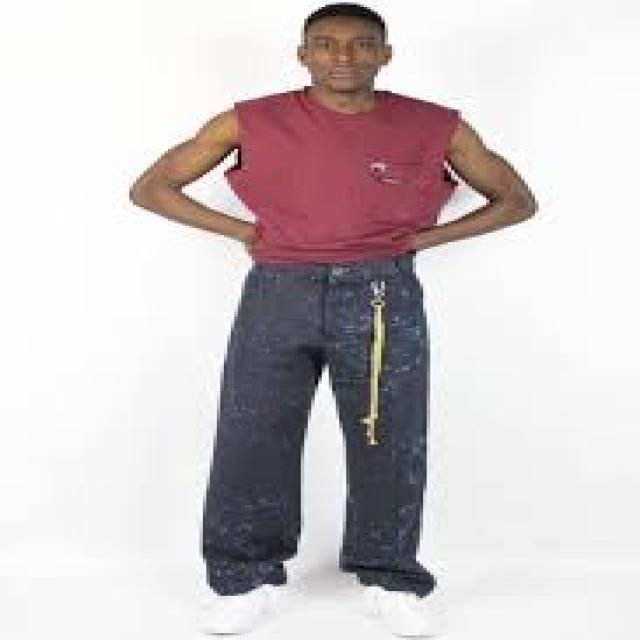pants: (203, 257, 443, 595)
